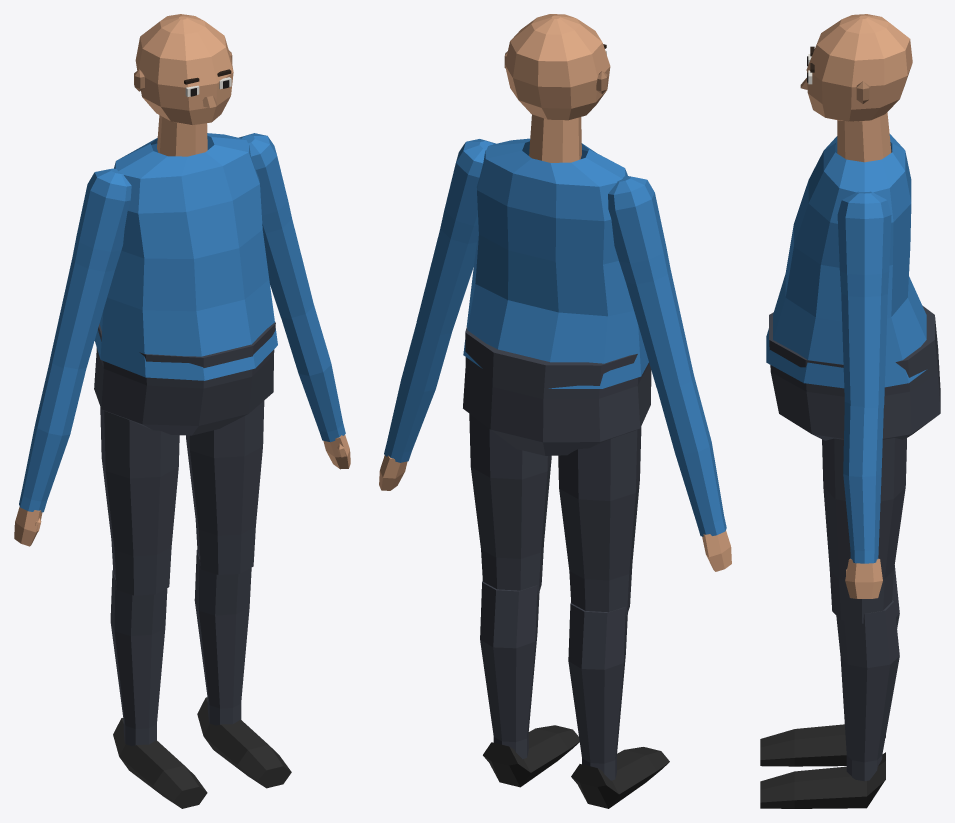
The model's file is ado_f_rond.glb.
3 renders of one model, left to right at view 1: azimuth 30°, elevation 25°; view 2: azimuth 150°, elevation 25°; view 3: azimuth 270°, elevation 25°, orthographic. The views are drawn at different scales.
Parts seen in each view (by area): view 1: torse, jambe_d, tete, bassin, tibia_g, tibia_d, jambe_g, bras_d, avant_bras_d, bras_g, avant_bras_g; view 2: torse, bassin, jambe_d, tibia_g, tibia_d, tete, jambe_g, bras_d, bras_g, avant_bras_d, avant_bras_g; view 3: torse, tibia_g, tete, bras_g, bassin, jambe_g, avant_bras_g, tibia_d.
Boxes of the visible parts, x1,y1,x2,y2 form: torse: [94, 133, 277, 380]; jambe_d: [100, 407, 179, 595]; tete: [134, 14, 233, 156]; bassin: [94, 322, 275, 435]; tibia_g: [194, 550, 291, 788]; tibia_d: [110, 570, 207, 808]; jambe_g: [186, 401, 264, 574]; bras_d: [50, 168, 131, 369]; avant_bras_d: [14, 360, 86, 546]; bras_g: [239, 133, 313, 319]; avant_bras_g: [281, 305, 350, 469]; torse: [463, 138, 648, 388]; bassin: [463, 327, 651, 455]; jambe_d: [558, 427, 641, 615]; tibia_g: [480, 581, 579, 787]; tibia_d: [568, 603, 669, 808]; tete: [504, 14, 610, 162]; jambe_g: [469, 414, 551, 594]; bras_d: [608, 176, 693, 389]; bras_g: [416, 139, 495, 334]; avant_bras_d: [657, 376, 731, 571]; avant_bras_g: [379, 323, 451, 490]; torse: [766, 134, 926, 388]; tibia_g: [760, 600, 899, 808]; tete: [800, 14, 912, 162]; bras_g: [837, 191, 891, 407]; bassin: [769, 305, 940, 440]; jambe_g: [822, 437, 906, 623]; avant_bras_g: [843, 402, 883, 598]; tibia_d: [760, 565, 899, 766].
Bounding box in the file's own units: 0.7388 × 1.59 × 0.3385.
1 material, 1 textured.
